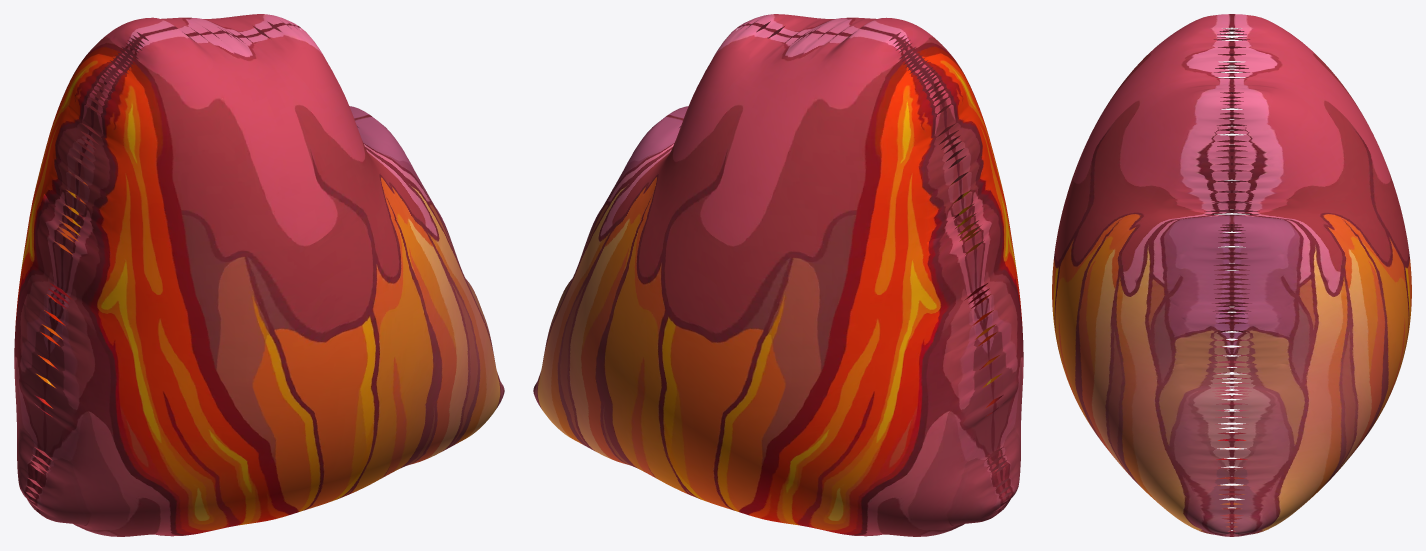
Rendered from volcanic_face.glb.
3 views of the same model, side by side, from view 1: azimuth 30°, elevation 25°; view 2: azimuth 150°, elevation 25°; view 3: azimuth 270°, elevation 25° (orthographic). The views are drawn at different scales.
Parts seen in each view (by area): view 1: volcanic_face; view 2: volcanic_face; view 3: volcanic_face.
Boxes of the visible parts, x1=… form: volcanic_face: x1=14, y1=14, x2=504, y2=536; volcanic_face: x1=533, y1=14, x2=1023, y2=536; volcanic_face: x1=1052, y1=14, x2=1411, y2=536.
Bounding box in the file's own units: 0.988 × 0.9896 × 0.77.
Materials: 1 (1 with a texture image).
